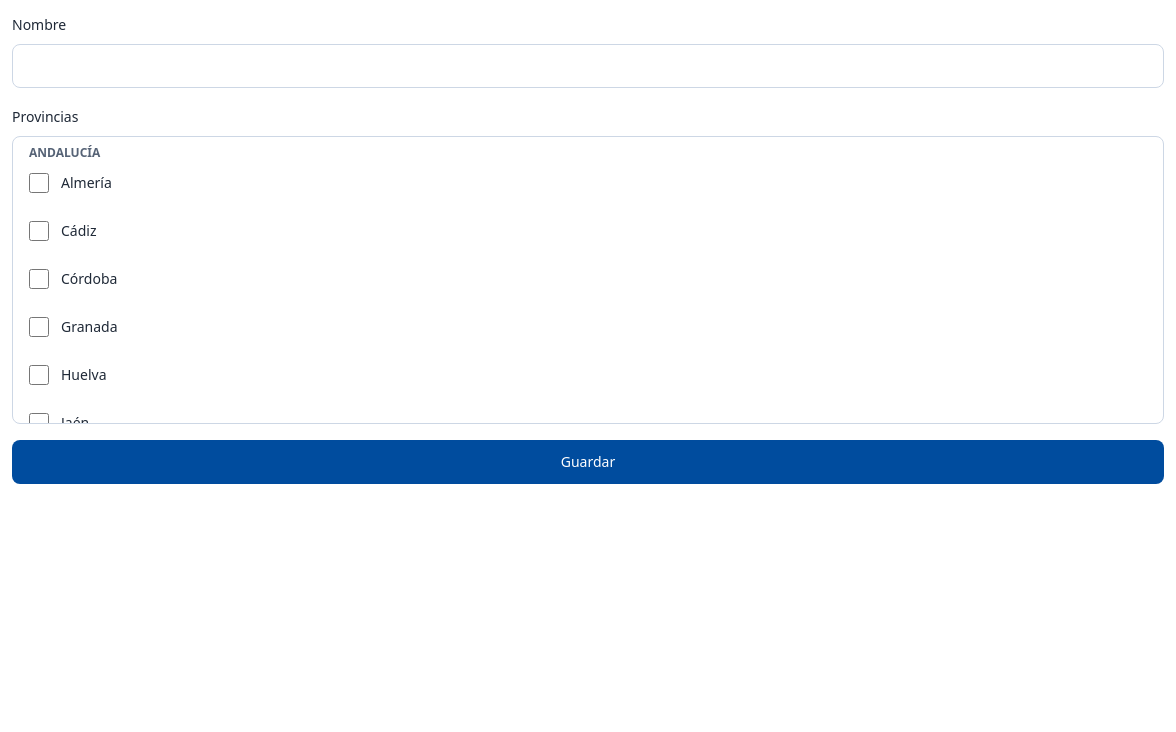
Test: TerritoryForm › requires at least one province
Expected: the element "Andalucía" is shown, x1=29 y1=144 x2=118 y2=424
Type "Sur" into the field labelled "Nombre".
click(588, 66); type("Sur")  # box x1=12 y1=44 x2=1164 y2=88
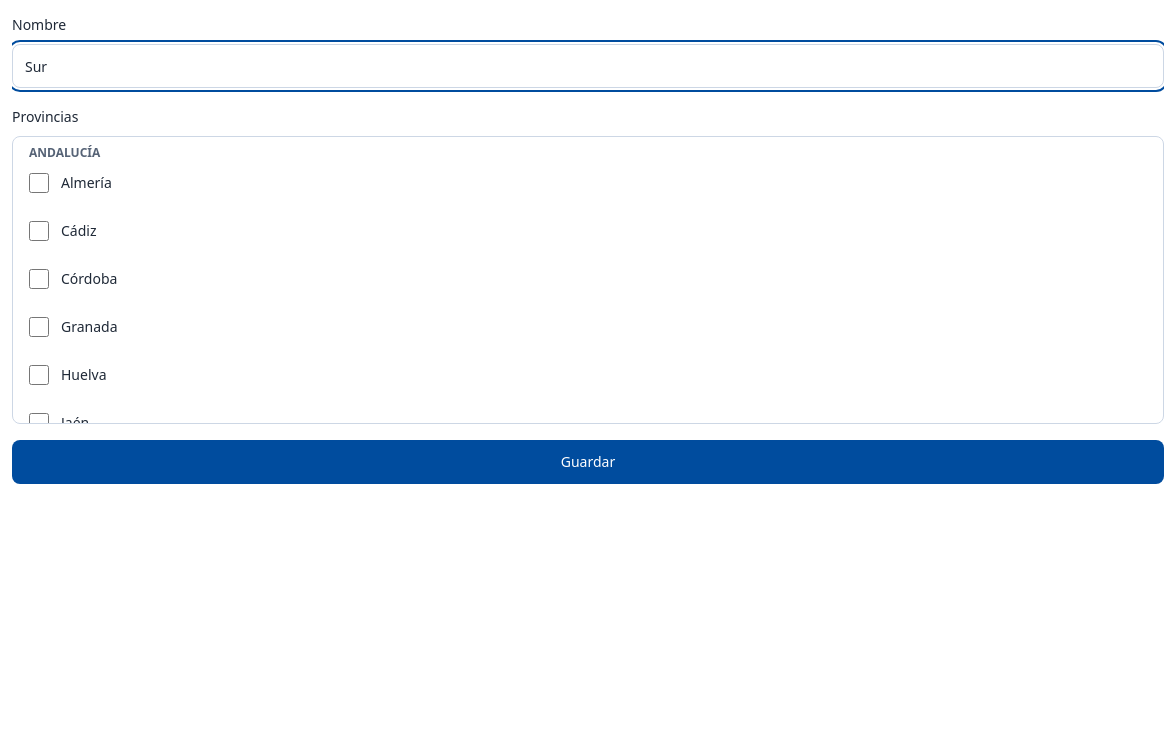
Click the button "Guardar".
click(588, 462)  # box x1=12 y1=440 x2=1164 y2=484
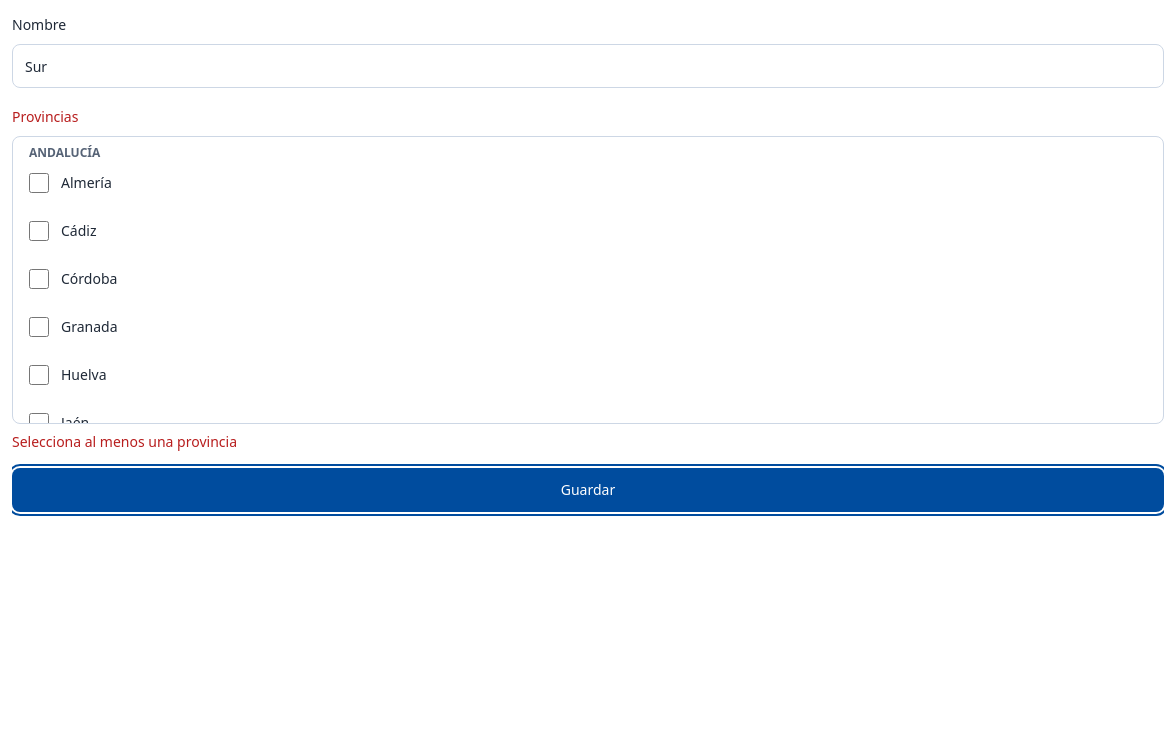
Now the text "Selecciona al menos una provincia" is shown, box x1=12 y1=432 x2=237 y2=451
